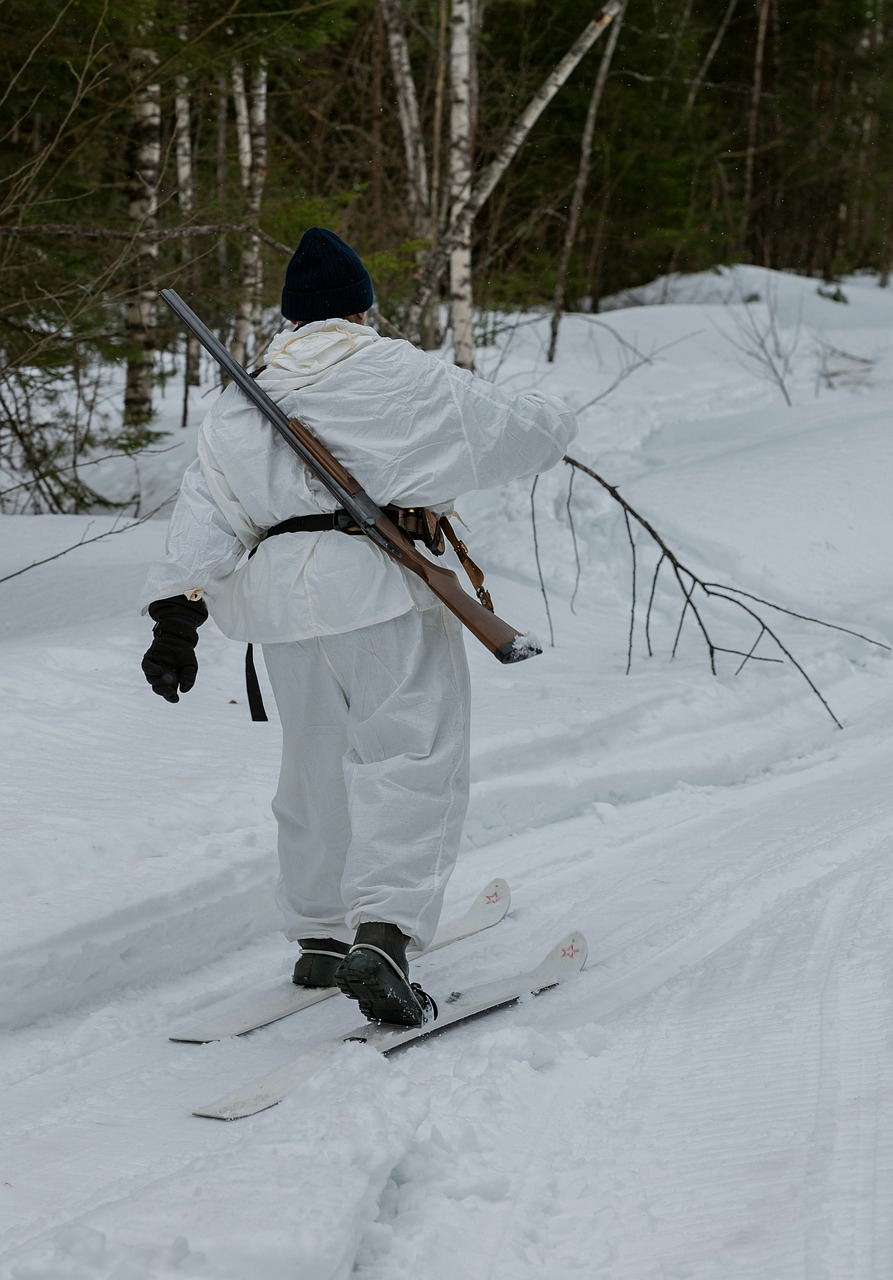gun: (150, 280, 549, 669)
